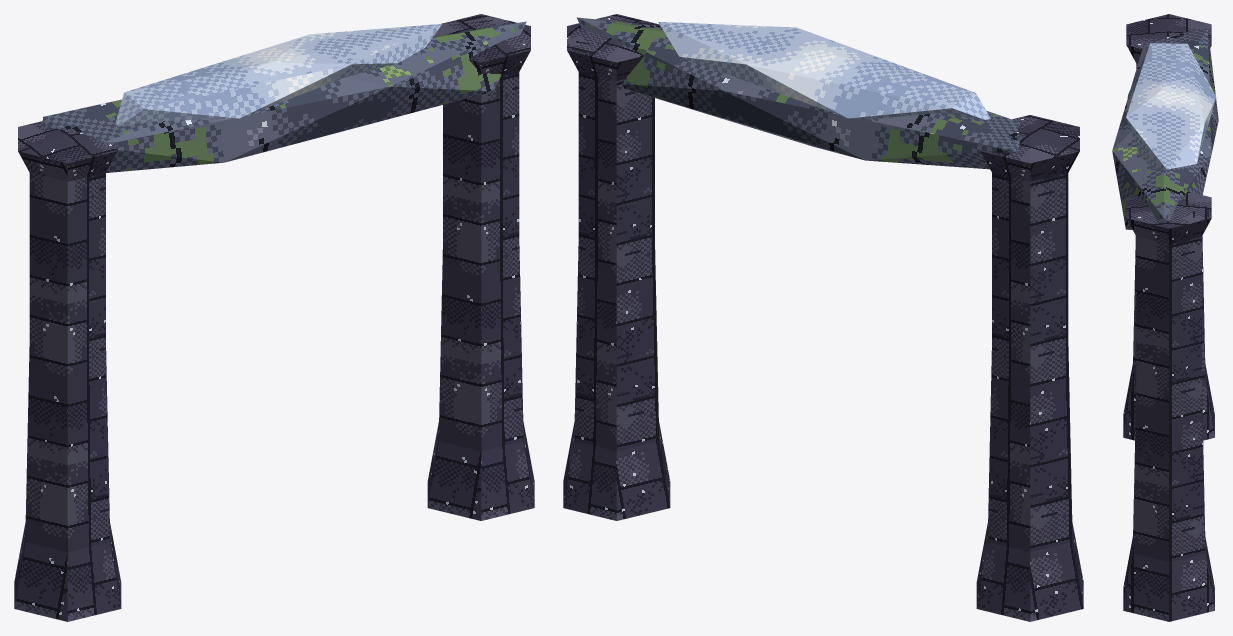
The model's file is summit_gate.glb.
The picture shows the model from 3 angles, left to right: view 1: azimuth 30°, elevation 25°; view 2: azimuth 150°, elevation 25°; view 3: azimuth 270°, elevation 25°; orthographic projection. The views are drawn at different scales.
Parts seen in each view (by area): view 1: Gate; view 2: Gate; view 3: Gate.
Boxes of the visible parts, <box> form: Gate: <box>14,14,534,621</box>; Gate: <box>563,14,1083,621</box>; Gate: <box>1112,14,1218,621</box>.
Size of the model in its own units: 6.8 by 6.1 by 1.41.
Materials: 3 (3 with a texture image).
